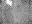person: (7, 1, 12, 6)
